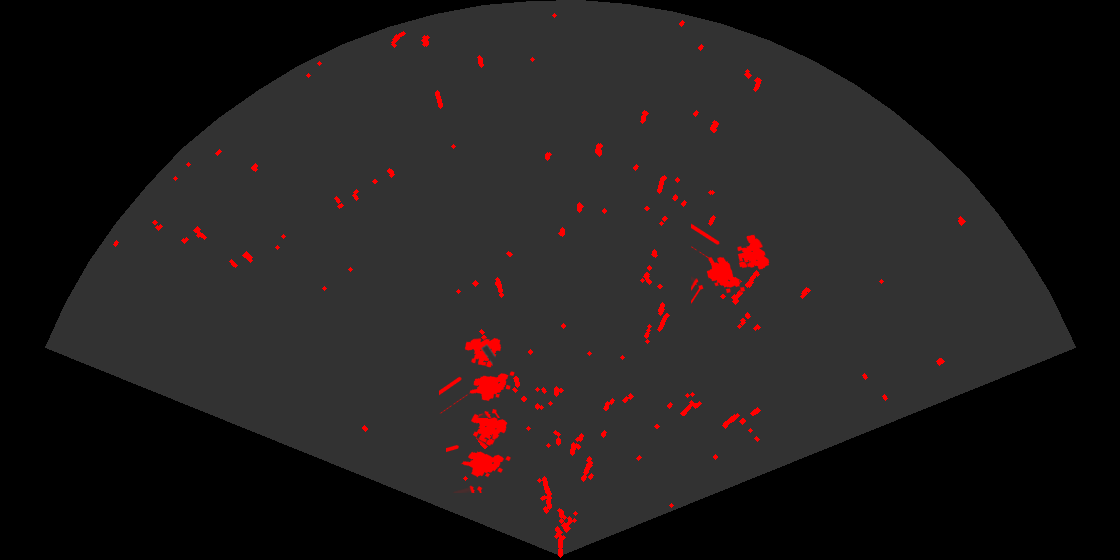cage: (691, 222, 771, 305), (439, 336, 516, 418), (446, 412, 512, 493)
